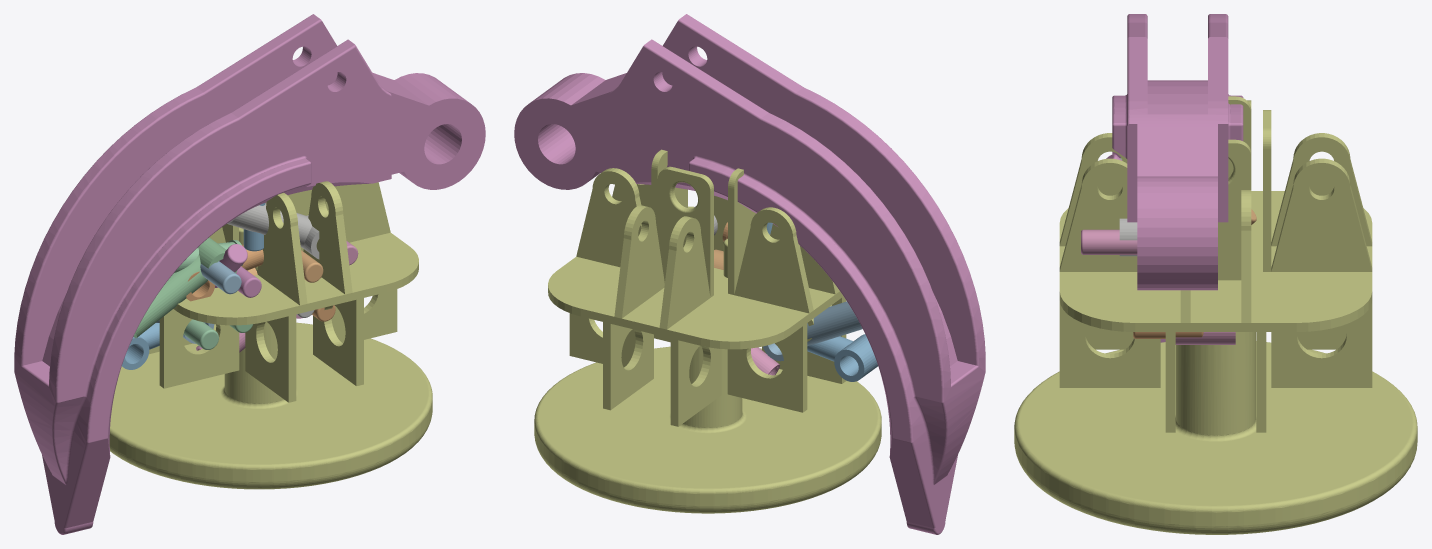
The model's file is case-03_gpt55.glb.
3 views of the same model, side by side, from view 1: azimuth 30°, elevation 25°; view 2: azimuth 150°, elevation 25°; view 3: azimuth 270°, elevation 25° (orthographic). The views are drawn at different scales.
Visible parts, largest first — view 1: c00002, c00001, c00004, c00005, c00010, c00016, c00018, c00009; view 2: c00001, c00002, c00010, c00006; view 3: c00001, c00002, c00017, c00007.
Part boxes in pixels (box(x1,y1,x2,y2)): c00002: box(14, 14, 485, 534); c00001: box(109, 181, 432, 489); c00004: box(133, 237, 237, 338); c00005: box(227, 203, 319, 259); c00010: box(122, 322, 205, 369); c00016: box(200, 261, 241, 294); c00018: box(183, 319, 218, 349); c00009: box(186, 244, 263, 301); c00001: box(534, 149, 881, 513); c00002: box(514, 14, 985, 534); c00010: box(807, 334, 877, 381); c00006: box(763, 301, 862, 361); c00001: box(1014, 96, 1417, 534); c00002: box(1112, 14, 1243, 342); c00017: box(1081, 229, 1137, 254); c00007: box(1175, 332, 1235, 344).
Size of the model in its own units: 1152 by 1113 by 800.
